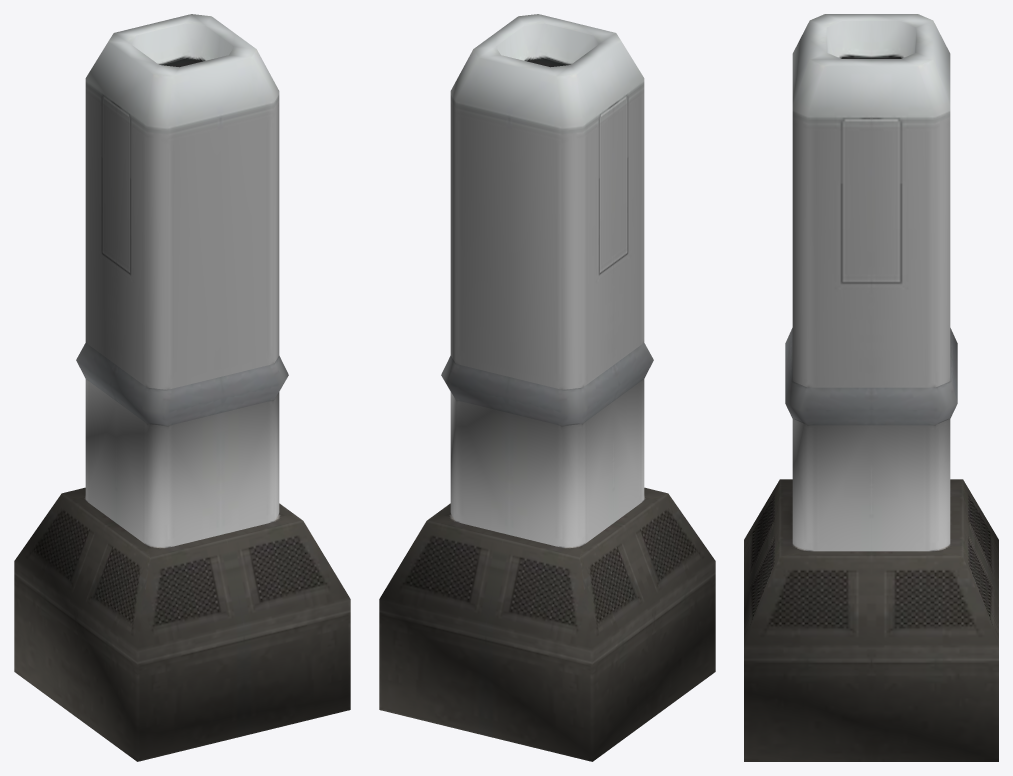
Rendered from Part - Tube 06-DH6TWITB.glb.
3 renders of one model, left to right at view 1: azimuth 30°, elevation 25°; view 2: azimuth 150°, elevation 25°; view 3: azimuth 270°, elevation 25°, orthographic. The views are drawn at different scales.
Parts seen in each view (by area): view 1: Tube_06; view 2: Tube_06; view 3: Tube_06.
Part boxes in pixels (x1,y1,x2,y2): Tube_06: (14,14,350,761); Tube_06: (379,14,715,761); Tube_06: (744,14,998,761).
Size of the model in its own units: 1.53 by 4.41 by 1.53.
1 material, 1 textured.
